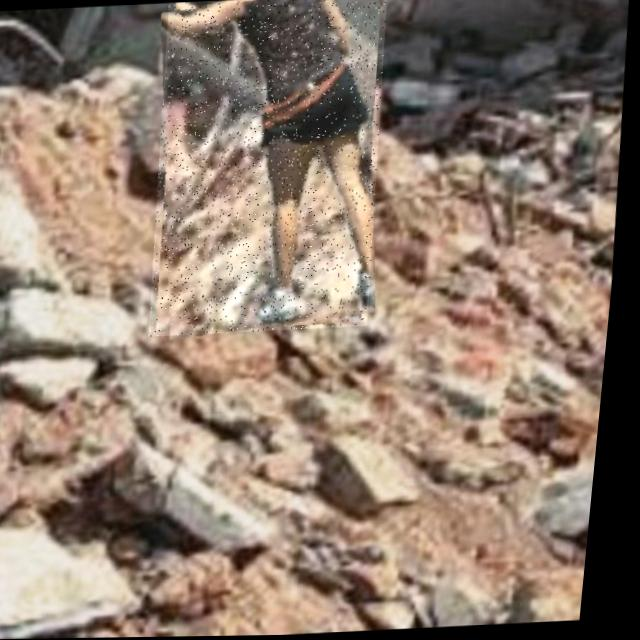Person in Rubble: (142, 0, 398, 336)
